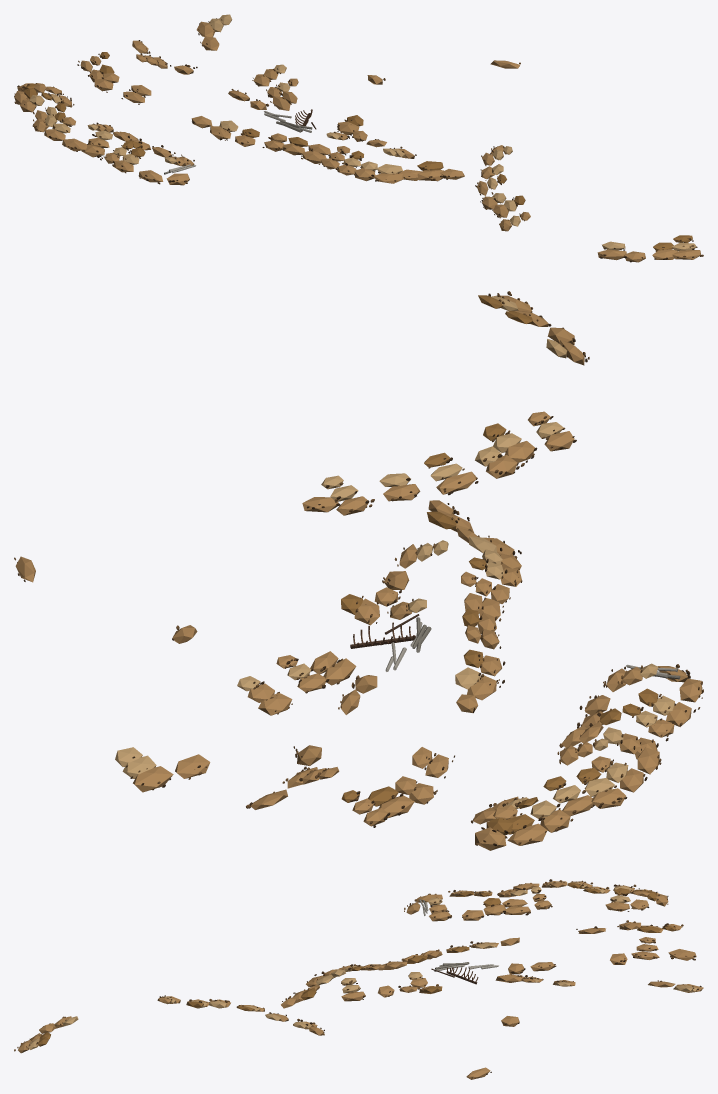
Rendered from chunk_-1_5.glb.
3 views of the same model, one above another, from view 1: azimuth 30°, elevation 25°; view 2: azimuth 150°, elevation 25°; view 3: azimuth 270°, elevation 25° (orthographic). The views are drawn at different scales.
Visible parts, largest first — view 1: chunk_-1_5; view 2: chunk_-1_5; view 3: chunk_-1_5.
Boxes of the visible parts, left/top/right/bottom form: chunk_-1_5: left=14, top=14, right=703, bottom=262; chunk_-1_5: left=14, top=291, right=703, bottom=850; chunk_-1_5: left=14, top=879, right=703, bottom=1079.
Bounding box in the file's own units: 130 × 4.83 × 192.
